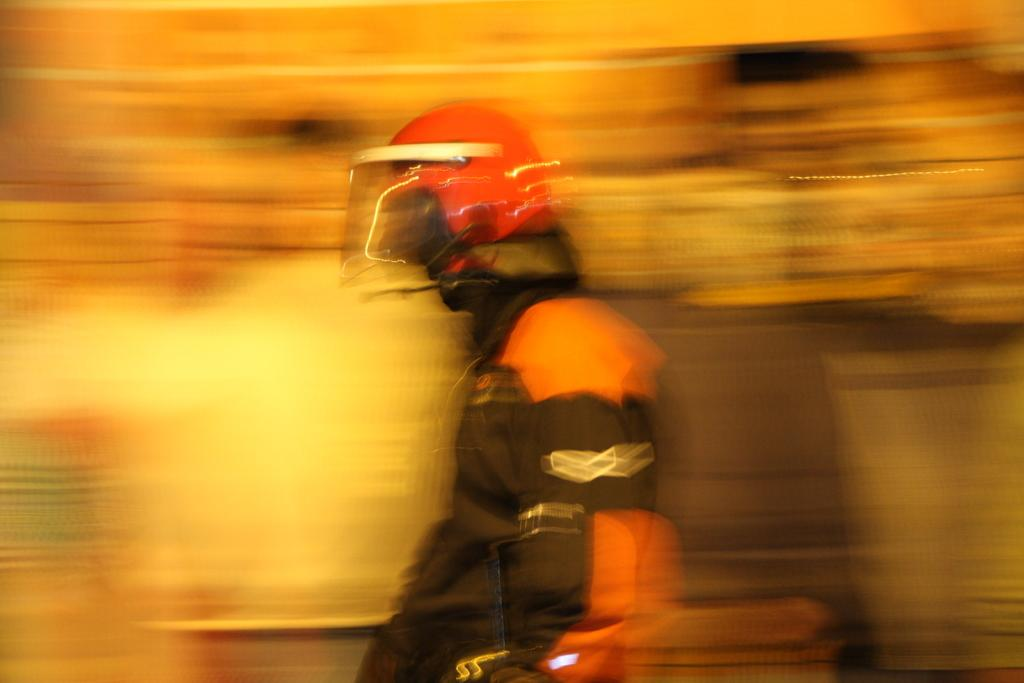helmet: (338, 102, 552, 309)
